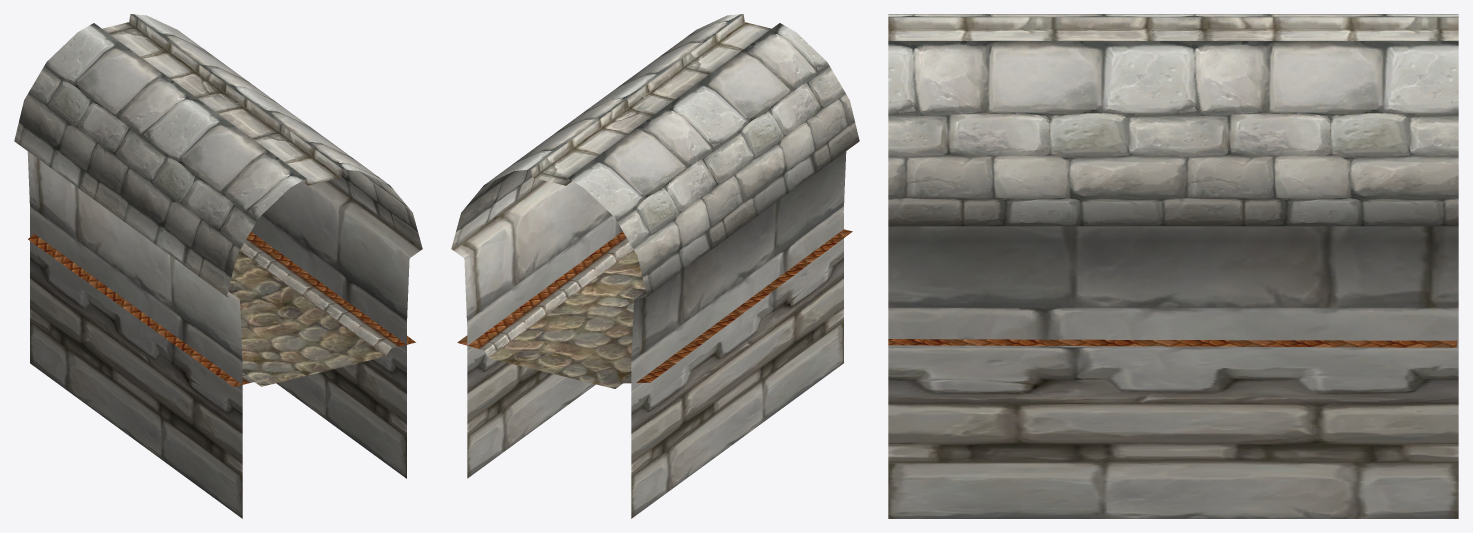
The model's file is stormwind_018.fbx.
3 views of the same model, side by side, from view 1: azimuth 30°, elevation 25°; view 2: azimuth 150°, elevation 25°; view 3: azimuth 270°, elevation 25° (orthographic). The views are drawn at different scales.
Visible parts, largest first — view 1: stormwind_018_11, stormwind_018_4, stormwind_018_46, stormwind_018_5, stormwind_018_12; view 2: stormwind_018_11, stormwind_018_4, stormwind_018_46, stormwind_018_5, stormwind_018_12; view 3: stormwind_018_11, stormwind_018_4, stormwind_018_5, stormwind_018_12.
Boxes of the visible parts, x1,y1,x2,y2 form: stormwind_018_11: [27, 151, 422, 518]; stormwind_018_4: [14, 14, 422, 296]; stormwind_018_46: [228, 251, 385, 386]; stormwind_018_5: [102, 14, 342, 185]; stormwind_018_12: [28, 232, 415, 386]; stormwind_018_11: [451, 151, 846, 518]; stormwind_018_4: [451, 14, 859, 296]; stormwind_018_46: [489, 250, 645, 388]; stormwind_018_5: [531, 14, 771, 185]; stormwind_018_12: [457, 229, 852, 388]; stormwind_018_11: [888, 226, 1458, 518]; stormwind_018_4: [888, 14, 1458, 226]; stormwind_018_5: [888, 17, 1458, 40]; stormwind_018_12: [888, 339, 1457, 347].
Size of the model in its own units: 10.07 by 15.95 by 18.91.
